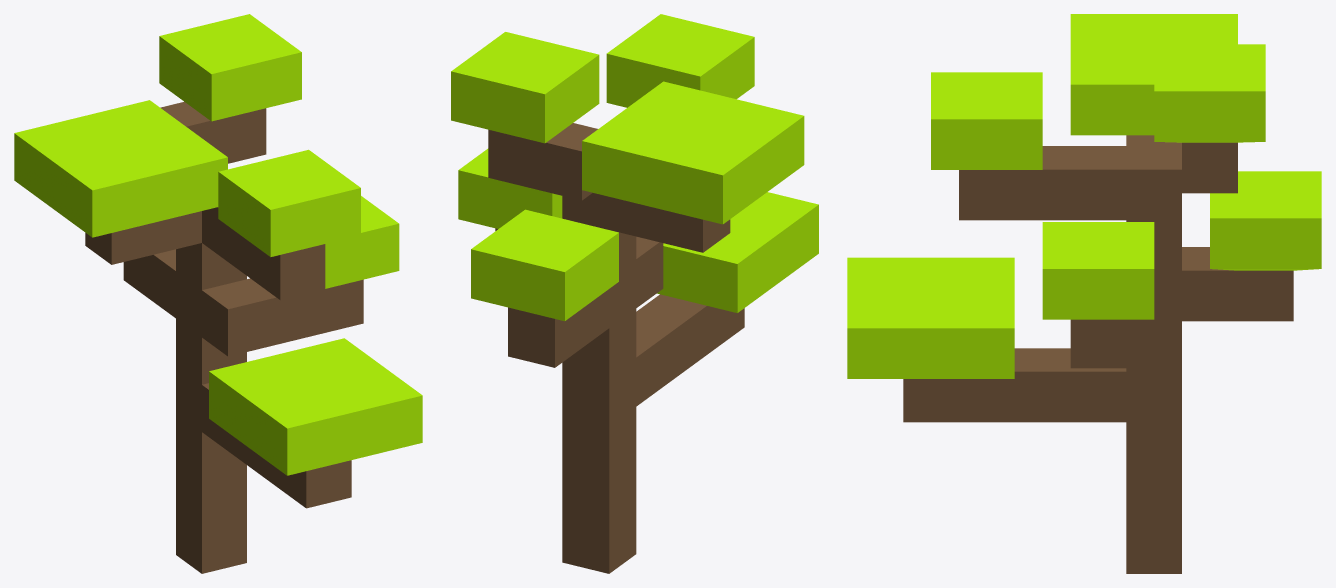
The model's file is trees_3_light.fbx.
3 views of the same model, side by side, from view 1: azimuth 30°, elevation 25°; view 2: azimuth 150°, elevation 25°; view 3: azimuth 270°, elevation 25° (orthographic). The views are drawn at different scales.
Visible parts, largest first — view 1: Cube.062; view 2: Cube.062; view 3: Cube.062.
Part boxes in pixels (box(x1,y1,x2,y2)): Cube.062: box(14, 14, 422, 573); Cube.062: box(451, 14, 818, 573); Cube.062: box(847, 14, 1321, 573).
Bounding box in the file's own units: 650 × 1025 × 850.
1 material, 1 textured.
